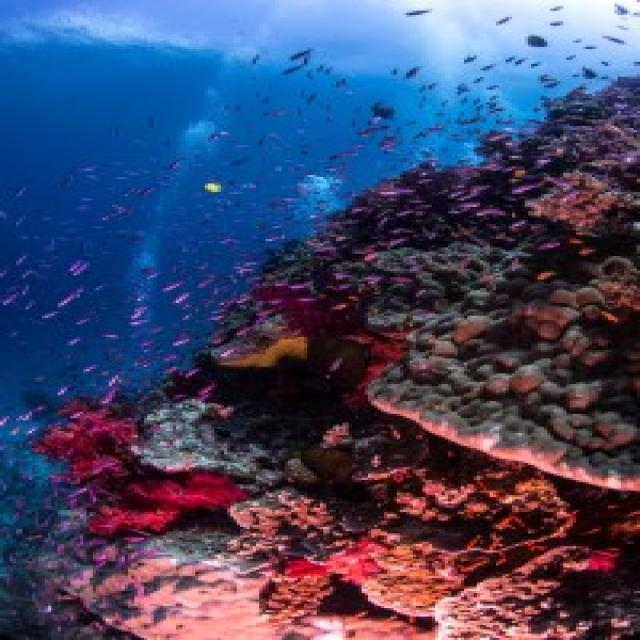Healthy: (334, 231, 638, 490), (54, 542, 326, 640), (209, 244, 334, 370), (417, 454, 574, 551), (127, 395, 286, 481), (432, 578, 597, 640), (91, 472, 244, 534), (36, 391, 135, 481), (228, 490, 340, 556), (524, 165, 633, 227), (334, 423, 427, 487)
